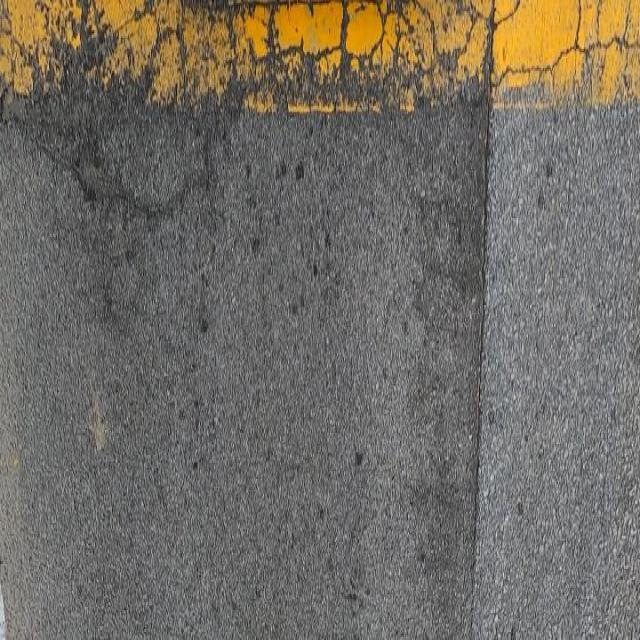cracks: (0, 0, 640, 117), (34, 123, 240, 262)
